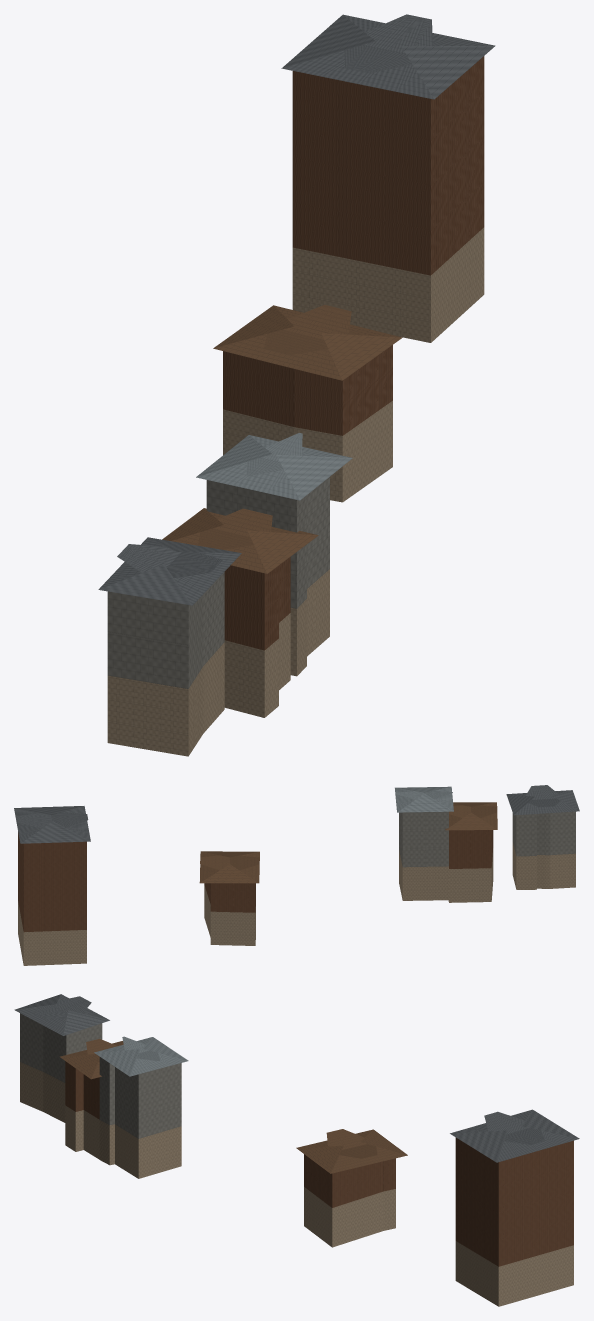
The model's file is bld_c29_-53_547.gltf.
3 views of the same model, one above another, from view 1: azimuth 30°, elevation 25°; view 2: azimuth 150°, elevation 25°; view 3: azimuth 270°, elevation 25° (orthographic). The views are drawn at different scales.
Parts seen in each view (by area): view 1: bld_c29_-53_547; view 2: bld_c29_-53_547; view 3: bld_c29_-53_547.
Part boxes in pixels (left/top/right/bottom): bld_c29_-53_547: left=98, top=14, right=495, bottom=756; bld_c29_-53_547: left=14, top=785, right=579, bottom=965; bld_c29_-53_547: left=14, top=994, right=579, bottom=1306.
Bounding box in the file's own units: 60.44 × 20.7 × 65.32.
6 materials, 6 textured.
